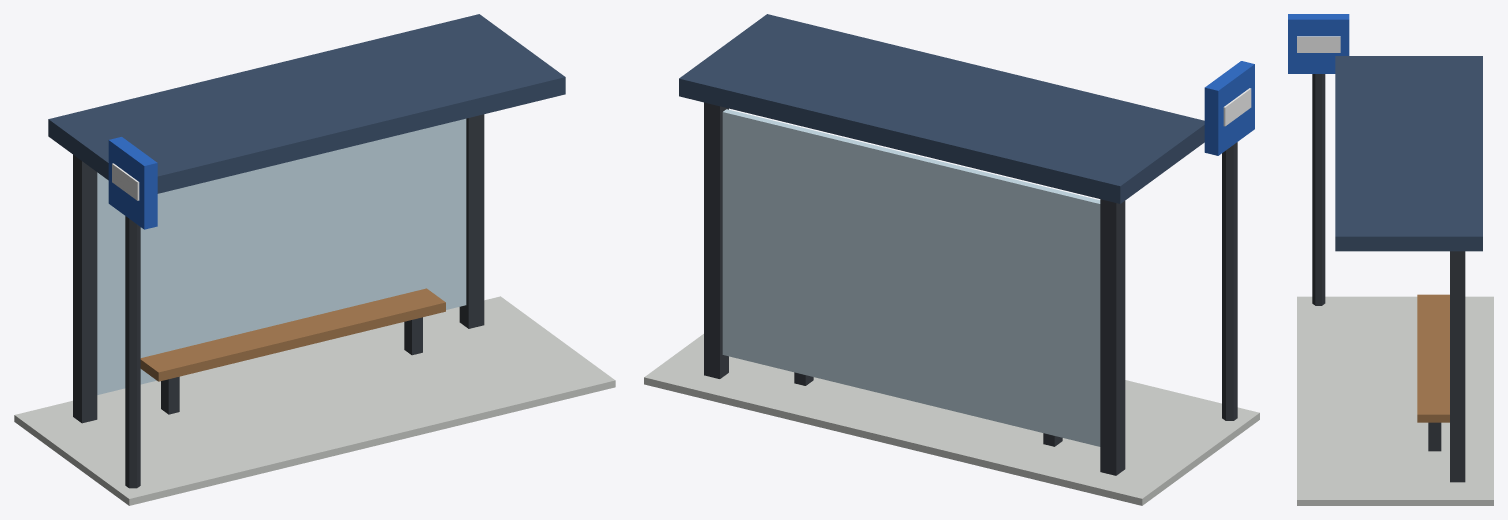
File: busstop.glb
The picture shows the model from 3 angles, left to right: view 1: azimuth 30°, elevation 25°; view 2: azimuth 150°, elevation 25°; view 3: azimuth 270°, elevation 25°; orthographic projection. The views are drawn at different scales.
Visible parts, largest first — view 1: busstop; view 2: busstop; view 3: busstop.
Part boxes in pixels (x1,y1,x2,y2): busstop: [14, 14, 615, 505]; busstop: [644, 14, 1259, 505]; busstop: [1288, 14, 1493, 505].
Bounding box in the file's own units: 4.4 × 2.95 × 1.88.
